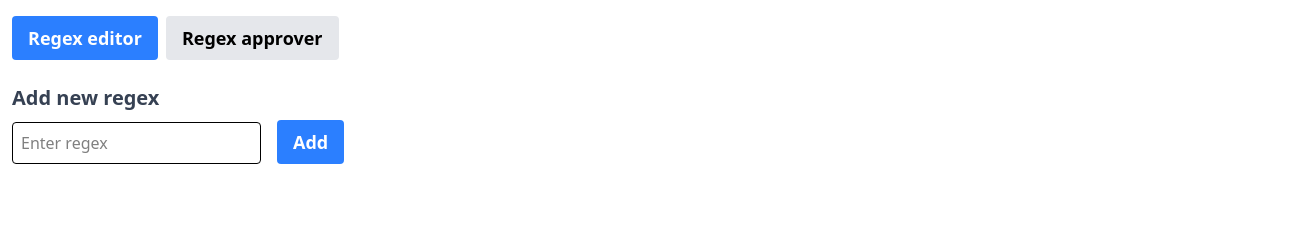
Test: Sidebar component › changes mode to approver when clicking Regex approver and renders correct content
Click the button "Regex approver": (252, 38) [166, 16, 338, 60]
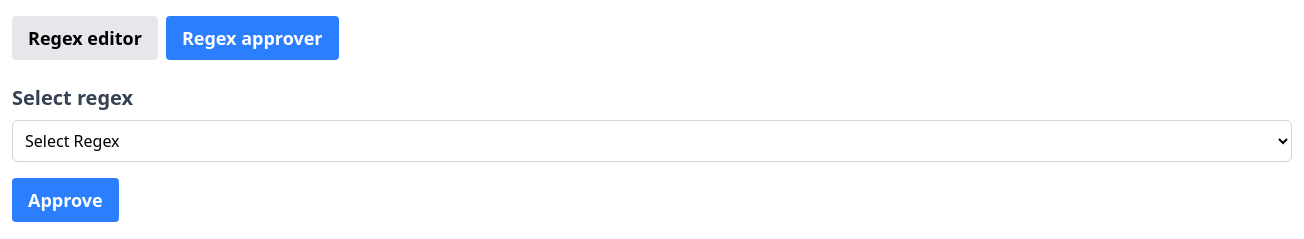
Result: the heading "Select regex" is shown at [12, 84, 133, 111]
